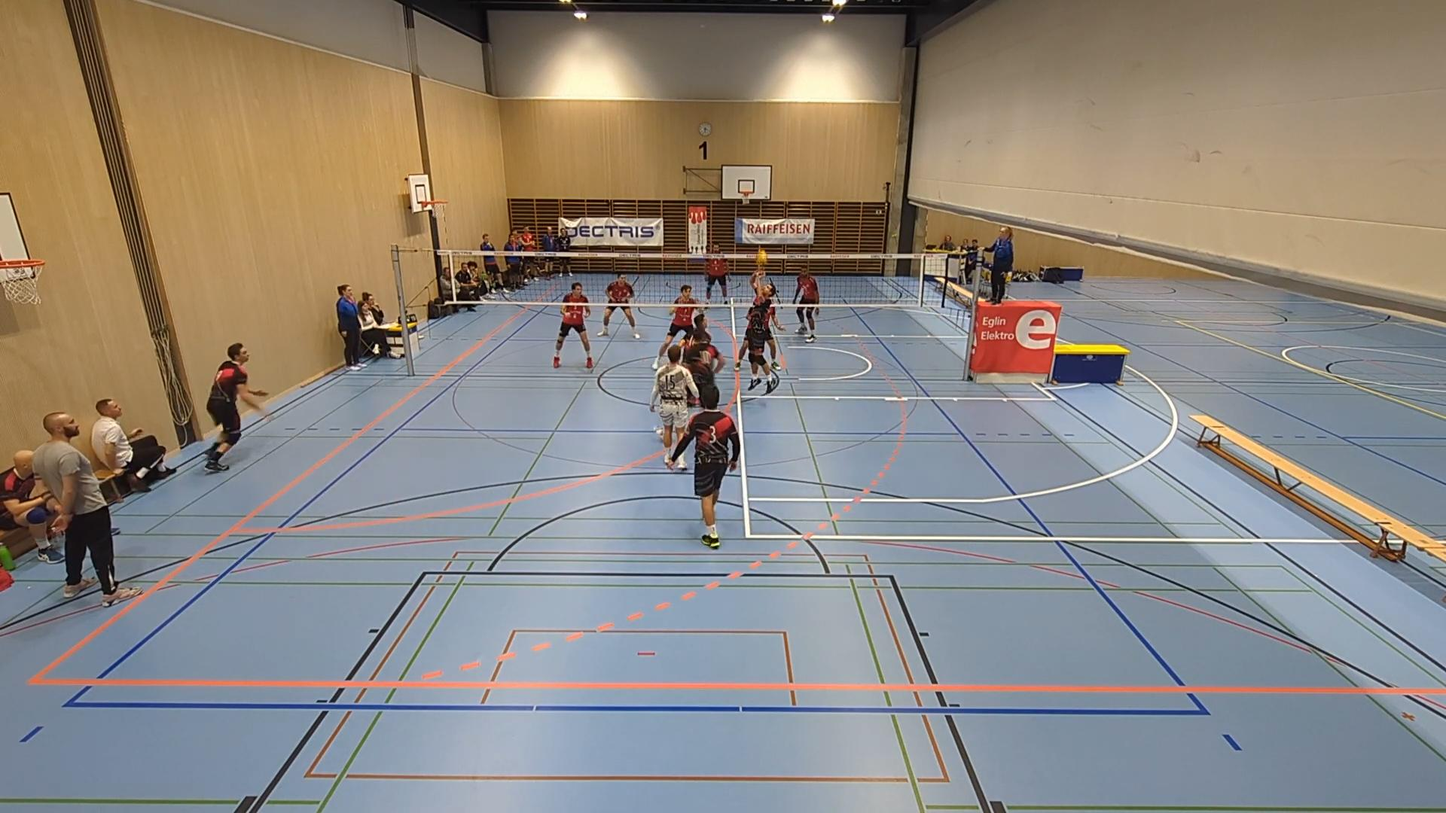Player: (667, 389, 740, 549), (204, 343, 270, 471), (649, 345, 698, 449), (734, 285, 782, 370), (653, 285, 698, 369), (553, 282, 593, 368), (683, 314, 724, 393), (597, 272, 639, 339), (794, 267, 819, 343), (705, 257, 728, 301)
Set: (741, 271, 787, 393)
ball: (754, 251, 767, 262)
